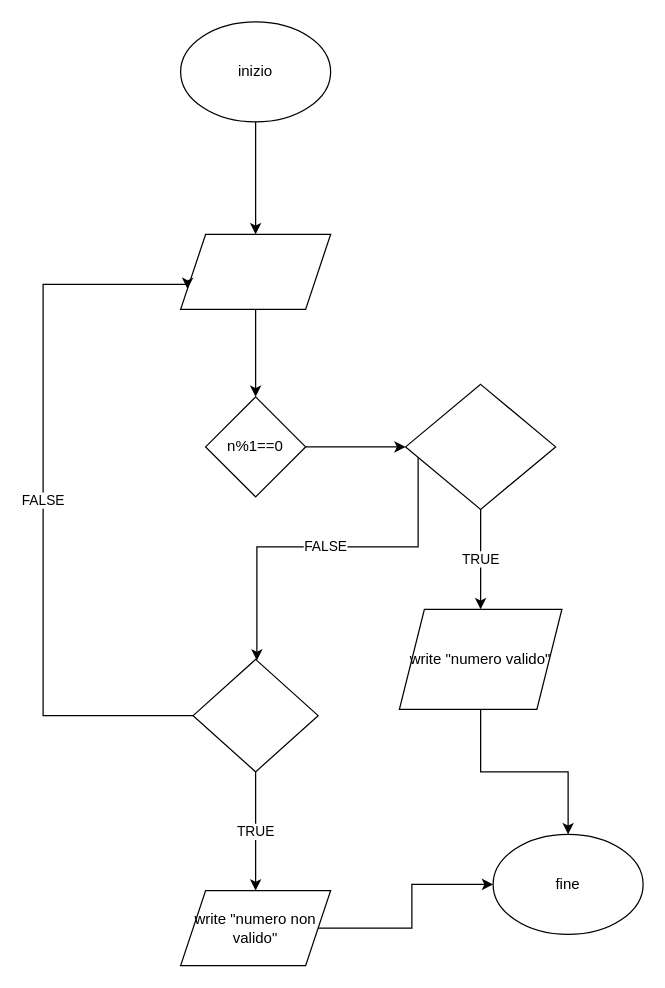
The diagram is 665 pixels wide and 988 high, and some of its shapes have lost their labels. The box of each missing label's shape, as (x1, y1, x2, y2) in pixels:
n%2 != 0 OR n<=10: (192, 658, 318, 772)
n%2==0 AND n>10: (404, 383, 556, 509)
read n: (179, 233, 331, 309)
